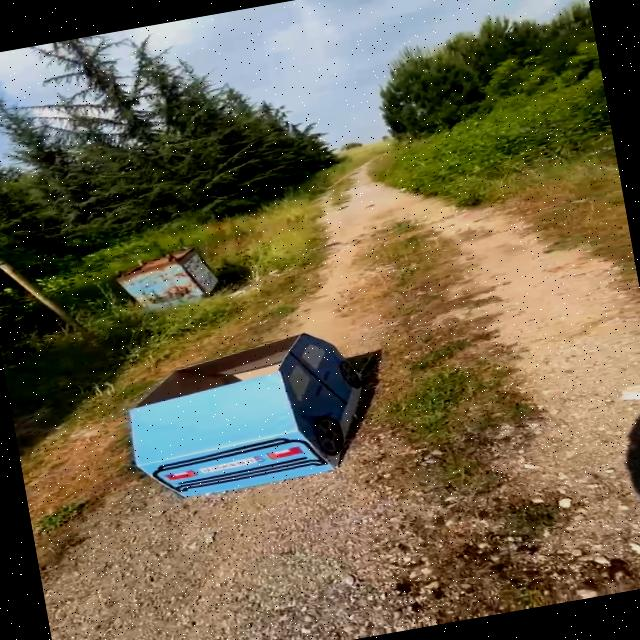blue_car: (83, 297, 409, 537)
